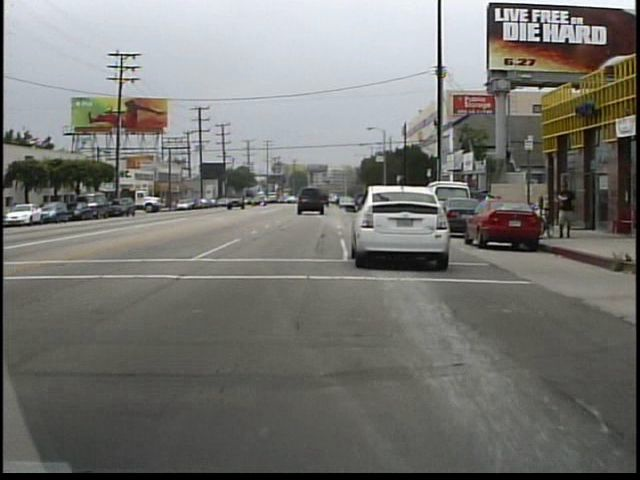person: (554, 175, 579, 243)
